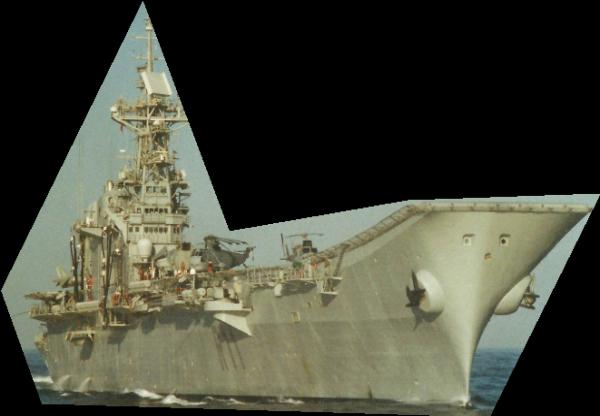Aircraft Carrier: (1, 1, 600, 416)
